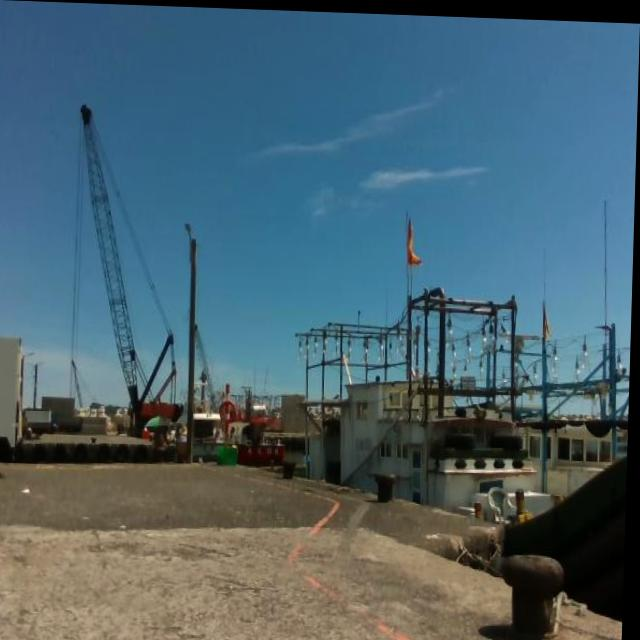pollute: (24, 486, 35, 494)
